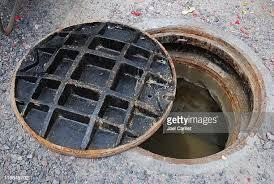open manhole-not overflowing-: (17, 22, 265, 172)
